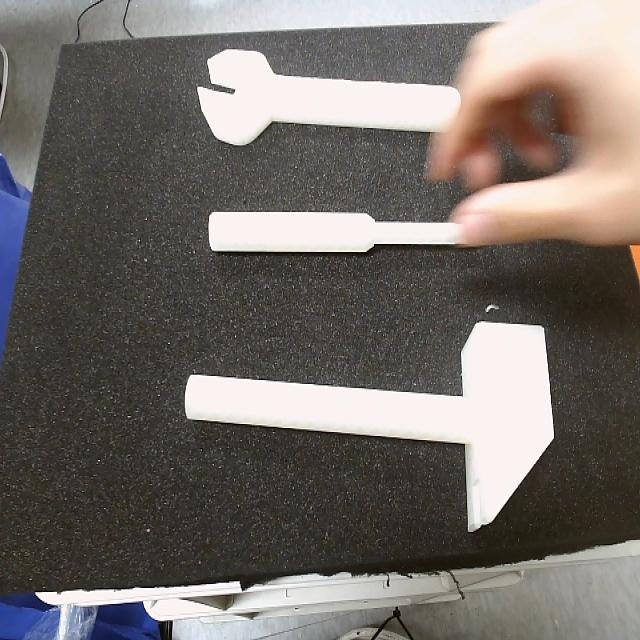Hammer: (184, 321, 555, 531)
Spanner: (195, 49, 461, 147)
